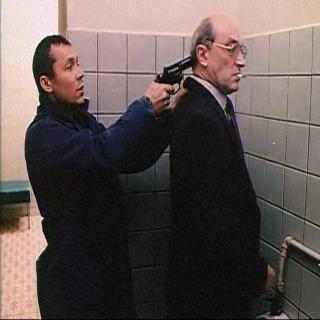gun: (154, 53, 200, 87)
